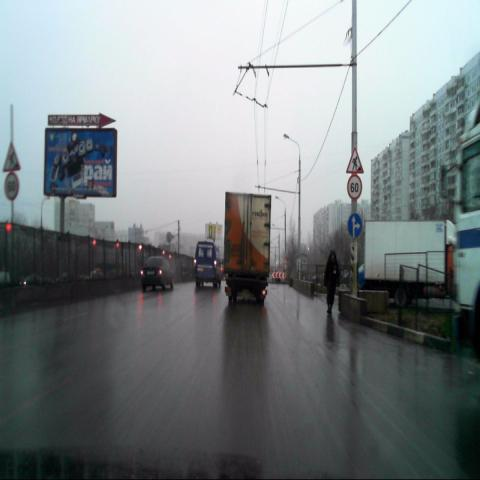1_25: (346, 147, 364, 173)
3_24: (347, 174, 362, 199)
4_1_4: (348, 212, 361, 236)
